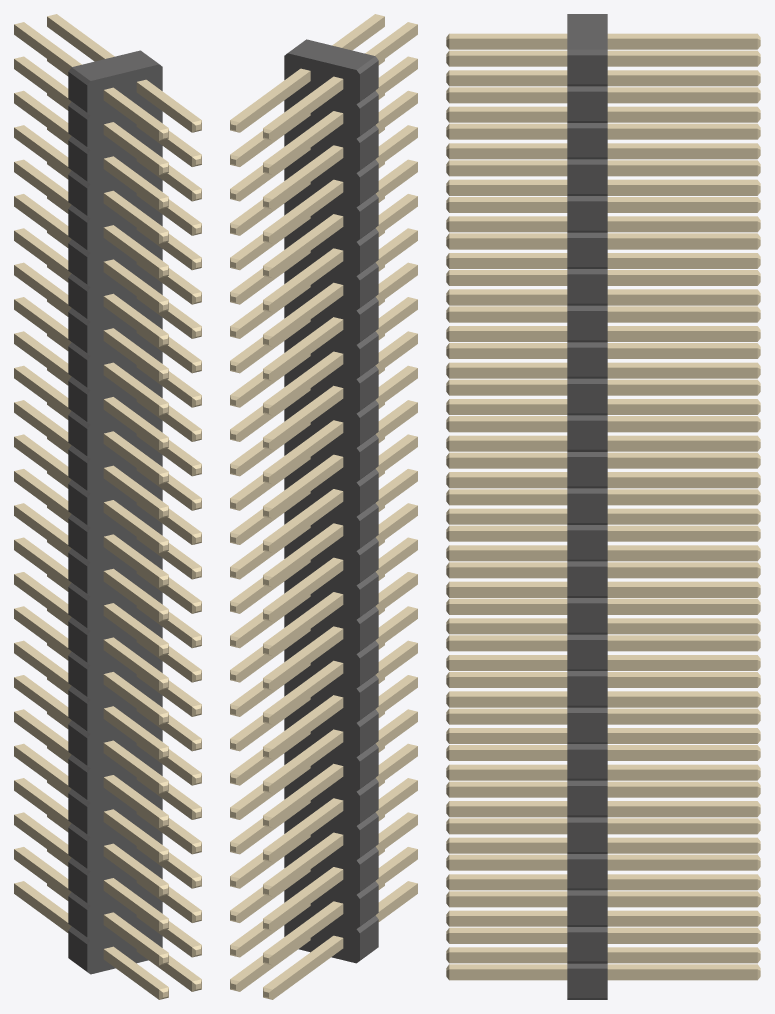
Rendered from PinHeader_2x26_P1.00mm_Vertical.glb.
The picture shows the model from 3 angles, left to right: view 1: azimuth 30°, elevation 25°; view 2: azimuth 150°, elevation 25°; view 3: azimuth 270°, elevation 25°; orthographic projection. The views are drawn at different scales.
Visible parts, largest first — view 1: Shape_IndexedFaceSet.003, Shape_IndexedFaceSet.001, Shape_IndexedFaceSet.256, Shape_IndexedFaceSet.464, Shape_IndexedFaceSet.180, Shape_IndexedFaceSet.215, Shape_IndexedFaceSet.388, Shape_IndexedFaceSet.423, Shape_IndexedFaceSet.188, Shape_IndexedFaceSet.241, Shape_IndexedFaceSet.160, Shape_IndexedFaceSet.165 (+124 smaller); view 2: Shape_IndexedFaceSet.004, Shape_IndexedFaceSet.001, Shape_IndexedFaceSet.423, Shape_IndexedFaceSet.388, Shape_IndexedFaceSet.464, Shape_IndexedFaceSet.449, Shape_IndexedFaceSet.384, Shape_IndexedFaceSet.396, Shape_IndexedFaceSet.419, Shape_IndexedFaceSet.459, Shape_IndexedFaceSet.573, Shape_IndexedFaceSet.368 (+116 smaller); view 3: Shape_IndexedFaceSet.539, Shape_IndexedFaceSet.370, Shape_IndexedFaceSet.375, Shape_IndexedFaceSet.378, Shape_IndexedFaceSet.382, Shape_IndexedFaceSet.390, Shape_IndexedFaceSet.398, Shape_IndexedFaceSet.403, Shape_IndexedFaceSet.411, Shape_IndexedFaceSet.417, Shape_IndexedFaceSet.421, Shape_IndexedFaceSet.431 (+215 smaller).
Boxes of the visible parts, <box> form: Shape_IndexedFaceSet.003: <box>87,64,162,974</box>; Shape_IndexedFaceSet.001: <box>72,50,158,80</box>; Shape_IndexedFaceSet.256: <box>103,605,158,655</box>; Shape_IndexedFaceSet.464: <box>14,540,71,589</box>; Shape_IndexedFaceSet.180: <box>103,262,158,312</box>; Shape_IndexedFaceSet.215: <box>103,949,158,999</box>; Shape_IndexedFaceSet.388: <box>14,196,71,245</box>; Shape_IndexedFaceSet.423: <box>14,883,71,932</box>; Shape_IndexedFaceSet.188: <box>103,502,158,552</box>; Shape_IndexedFaceSet.241: <box>103,674,158,724</box>; Shape_IndexedFaceSet.160: <box>103,90,158,140</box>; Shape_IndexedFaceSet.165: <box>103,124,158,174</box>; Shape_IndexedFaceSet.004: <box>284,53,359,963</box>; Shape_IndexedFaceSet.001: <box>288,39,374,69</box>; Shape_IndexedFaceSet.423: <box>273,938,343,999</box>; Shape_IndexedFaceSet.388: <box>273,251,343,312</box>; Shape_IndexedFaceSet.464: <box>273,595,343,655</box>; Shape_IndexedFaceSet.449: <box>273,663,343,724</box>; Shape_IndexedFaceSet.384: <box>273,285,343,346</box>; Shape_IndexedFaceSet.396: <box>273,491,343,552</box>; Shape_IndexedFaceSet.419: <box>273,388,343,449</box>; Shape_IndexedFaceSet.459: <box>273,698,343,758</box>; Shape_IndexedFaceSet.573: <box>240,71,310,132</box>; Shape_IndexedFaceSet.368: <box>273,79,343,140</box>; Shape_IndexedFaceSet.539: <box>607,238,757,249</box>; Shape_IndexedFaceSet.370: <box>607,38,757,49</box>; Shape_IndexedFaceSet.375: <box>607,75,757,86</box>; Shape_IndexedFaceSet.378: <box>607,148,757,159</box>; Shape_IndexedFaceSet.382: <box>607,111,757,122</box>; Shape_IndexedFaceSet.390: <box>607,221,757,232</box>; Shape_IndexedFaceSet.398: <box>607,477,757,488</box>; Shape_IndexedFaceSet.403: <box>607,440,757,451</box>; Shape_IndexedFaceSet.411: <box>607,294,757,305</box>; Shape_IndexedFaceSet.417: <box>607,367,757,378</box>; Shape_IndexedFaceSet.421: <box>607,952,757,963</box>; Shape_IndexedFaceSet.431: <box>607,879,757,890</box>.
Size of the model in its own units: 0.906 by 10.24 by 3.07.
